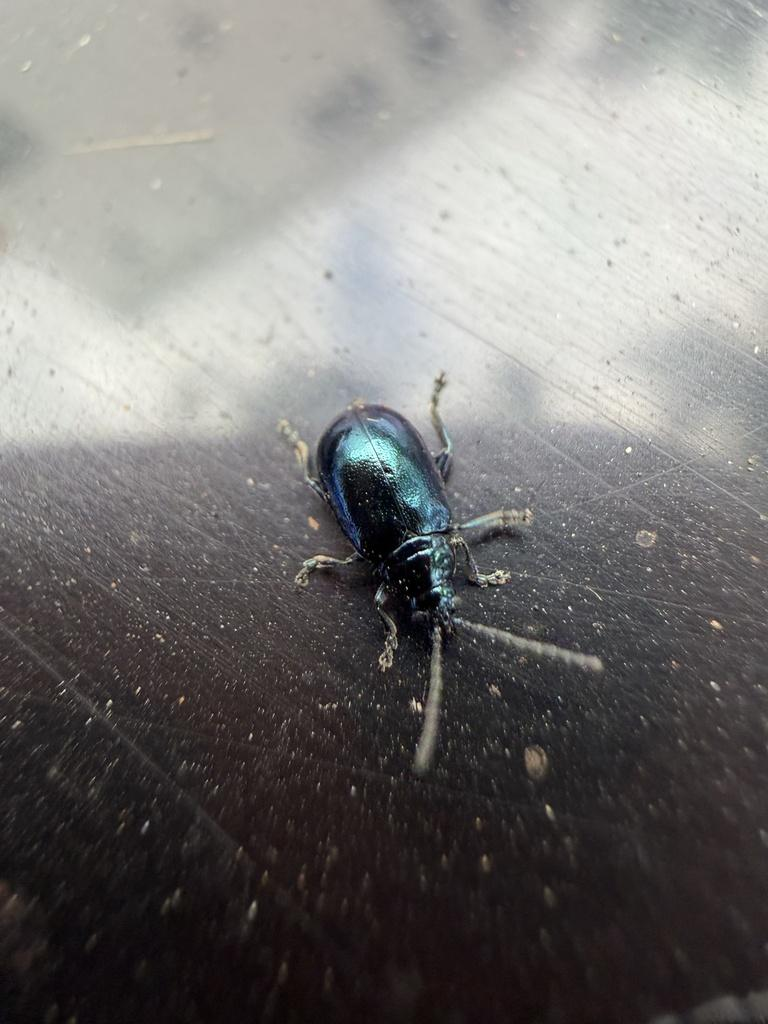flea_beetle: (233, 340, 620, 787)
